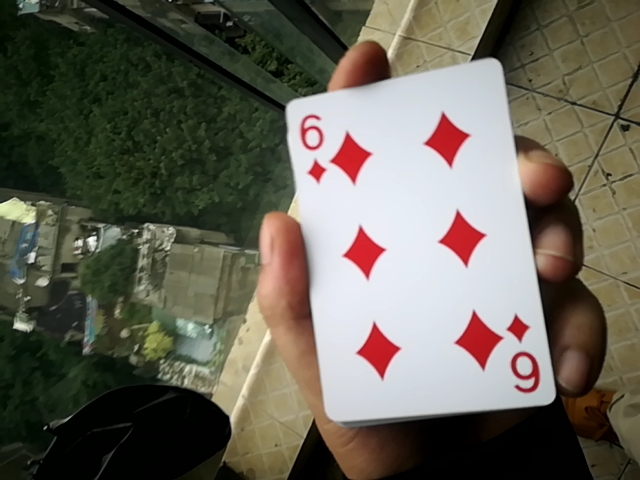fk 6: (264, 53, 554, 424)
